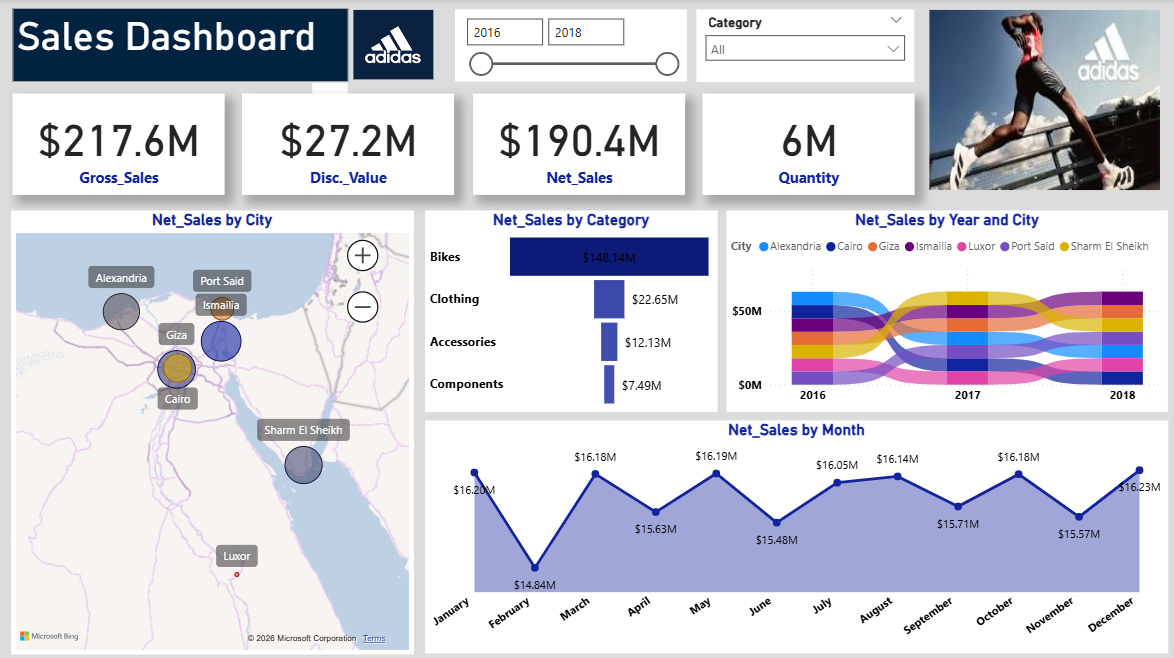

What the dashboard file says about the page in this screenshot:
{"tool":"powerbi","page":{"name":"Dashboard","canvas":[1280,720],"ordinal":0},"visuals":[{"type":"textbox","box":[14.3,10,364.3,80],"z":0},{"type":"card","fields":{"Values":["SalesT.Gross_Sales"]},"box":[14.3,102.9,230,110],"z":1000},{"type":"card","fields":{"Values":["Location.Disc._Value"]},"box":[263.9,102.9,230,110],"z":2000},{"type":"card","fields":{"Values":["Location.Net_Sales"]},"box":[513.6,102.9,230,110],"z":3000},{"type":"card","fields":{"Values":["Sum(SalesT.Quantity)"]},"box":[762.9,102.9,230,110],"z":4000},{"type":"funnel","fields":{"Category":["Product.Category"],"Y":["SalesT.Net_Sales"]},"box":[461.4,228.6,317.1,218.6],"z":5000},{"type":"map","fields":{"Size":["SalesT.Net_Sales"],"Category":["Location.City"]},"box":[13.8,228.8,436.2,481.2],"z":6000},{"type":"lineChart","fields":{"Y":["SalesT.Net_Sales"],"Category":["SalesT.Date.Variation.Date Hierarchy.Year","SalesT.Date.Variation.Date Hierarchy.Month"]},"box":[461.4,457.1,805.7,252.9],"z":7000},{"type":"ribbonChart","fields":{"Category":["SalesT.Date.Variation.Date Hierarchy.Year"],"Y":["SalesT.Net_Sales"],"Series":["Location.City"]},"box":[788.6,228.6,478.6,218.6],"z":8000},{"type":"slicer","fields":{"Values":["SalesT.Date.Variation.Date Hierarchy.Year"]},"box":[494.3,11.4,251.4,77.1],"z":9000},{"type":"slicer","fields":{"Values":["Product.Category"]},"box":[757.1,11.4,235.7,78.6],"z":10000},{"type":"image","box":[378.6,7.1,97.1,85.7],"z":11000},{"type":"image","box":[1004.3,7.1,260,205.7],"z":11001}]}

Visuals, with their boxes in screenshot pixels (x1, y1, x2, y2), scaled from the page's 1280x720 canvas onto the 1174x658 screenshot:
textbox: select_region(13, 9, 347, 82)
card - SalesT.Gross_Sales: select_region(13, 94, 224, 195)
card - Location.Disc._Value: select_region(242, 94, 453, 195)
card - Location.Net_Sales: select_region(471, 94, 682, 195)
card - Sum(SalesT.Quantity): select_region(700, 94, 911, 195)
funnel - Product.Category x SalesT.Net_Sales: select_region(423, 209, 714, 409)
map - SalesT.Net_Sales x Location.City: select_region(13, 209, 413, 649)
lineChart - SalesT.Net_Sales x SalesT.Date.Variation.Date Hierarchy.Year: select_region(423, 418, 1162, 649)
ribbonChart - SalesT.Date.Variation.Date Hierarchy.Year x SalesT.Net_Sales: select_region(723, 209, 1162, 409)
slicer - SalesT.Date.Variation.Date Hierarchy.Year: select_region(453, 10, 684, 81)
slicer - Product.Category: select_region(694, 10, 911, 82)
image: select_region(347, 6, 436, 85)
image: select_region(921, 6, 1160, 194)
